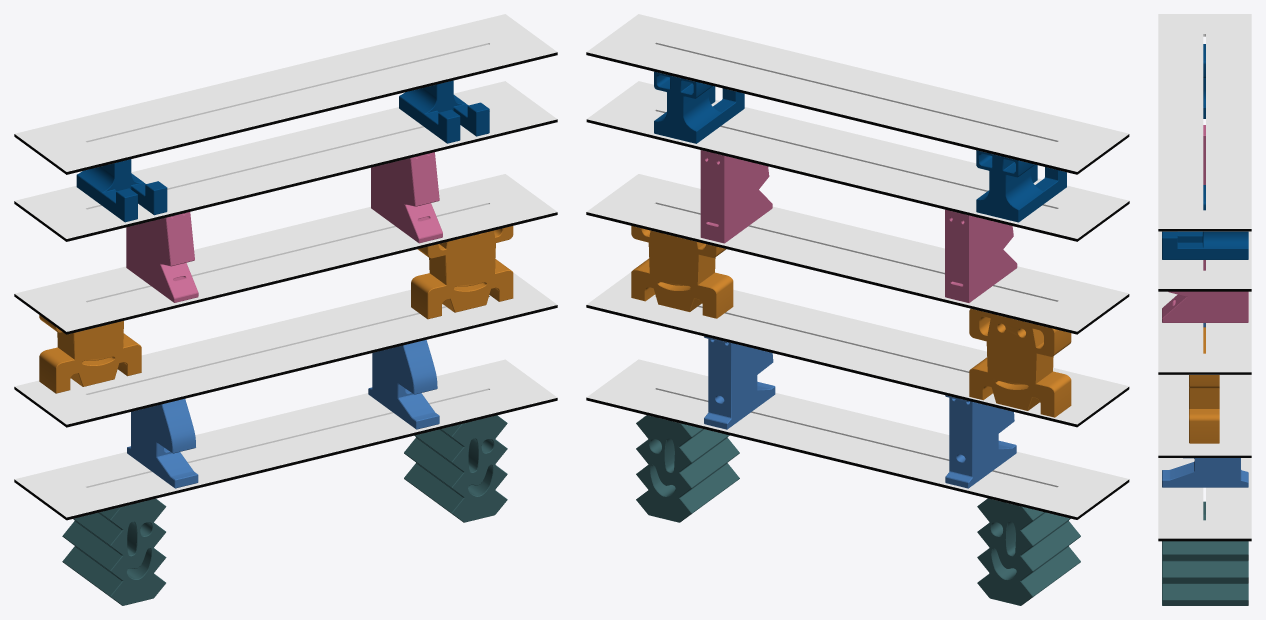
The model's file is magis_ladrillo_fbx_upY.fbx.
3 views of the same model, side by side, from view 1: azimuth 30°, elevation 25°; view 2: azimuth 150°, elevation 25°; view 3: azimuth 270°, elevation 25° (orthographic). The views are drawn at different scales.
Visible parts, largest first — view 1: magis_ladrillo; view 2: magis_ladrillo; view 3: magis_ladrillo.
Part boxes in pixels (bbox=[...]): magis_ladrillo: bbox=[14, 14, 557, 605]; magis_ladrillo: bbox=[586, 14, 1129, 605]; magis_ladrillo: bbox=[1158, 14, 1251, 605].
Size of the model in its own units: 200 by 175 by 36.83.
